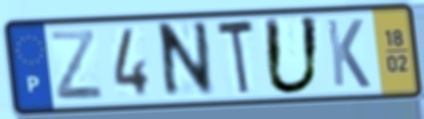4: (112, 25, 153, 100)
K: (324, 17, 373, 91)
N: (159, 18, 216, 104)
T: (214, 17, 258, 100)
U: (261, 15, 324, 98)
Z: (47, 27, 107, 103)
